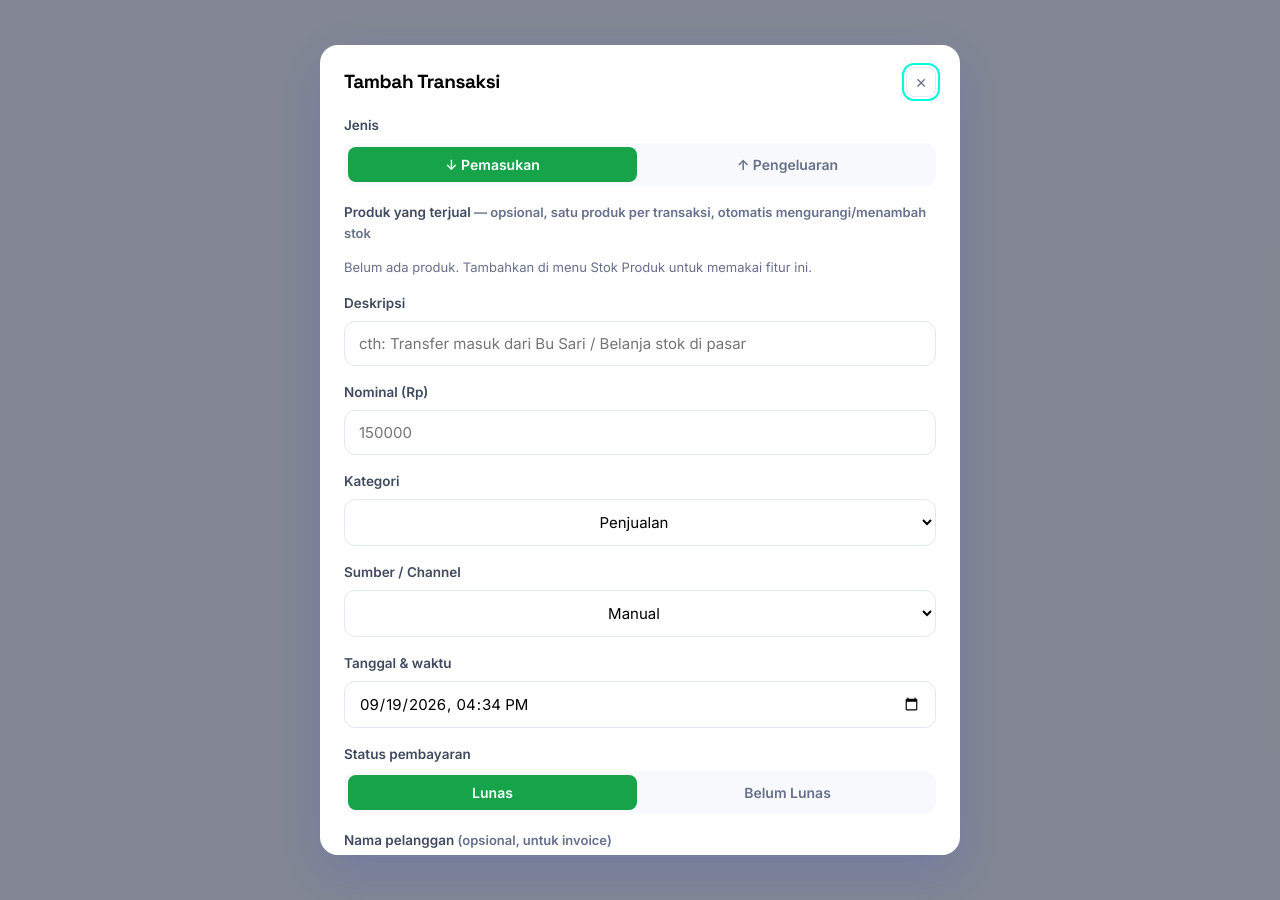
Test: <TransactionModal> validasi › menolak simpan tanpa deskripsi
In the number field labelled "Nominal (Rp)": (640, 432) [344,410,936,455], type "50000"
(page scrolled)
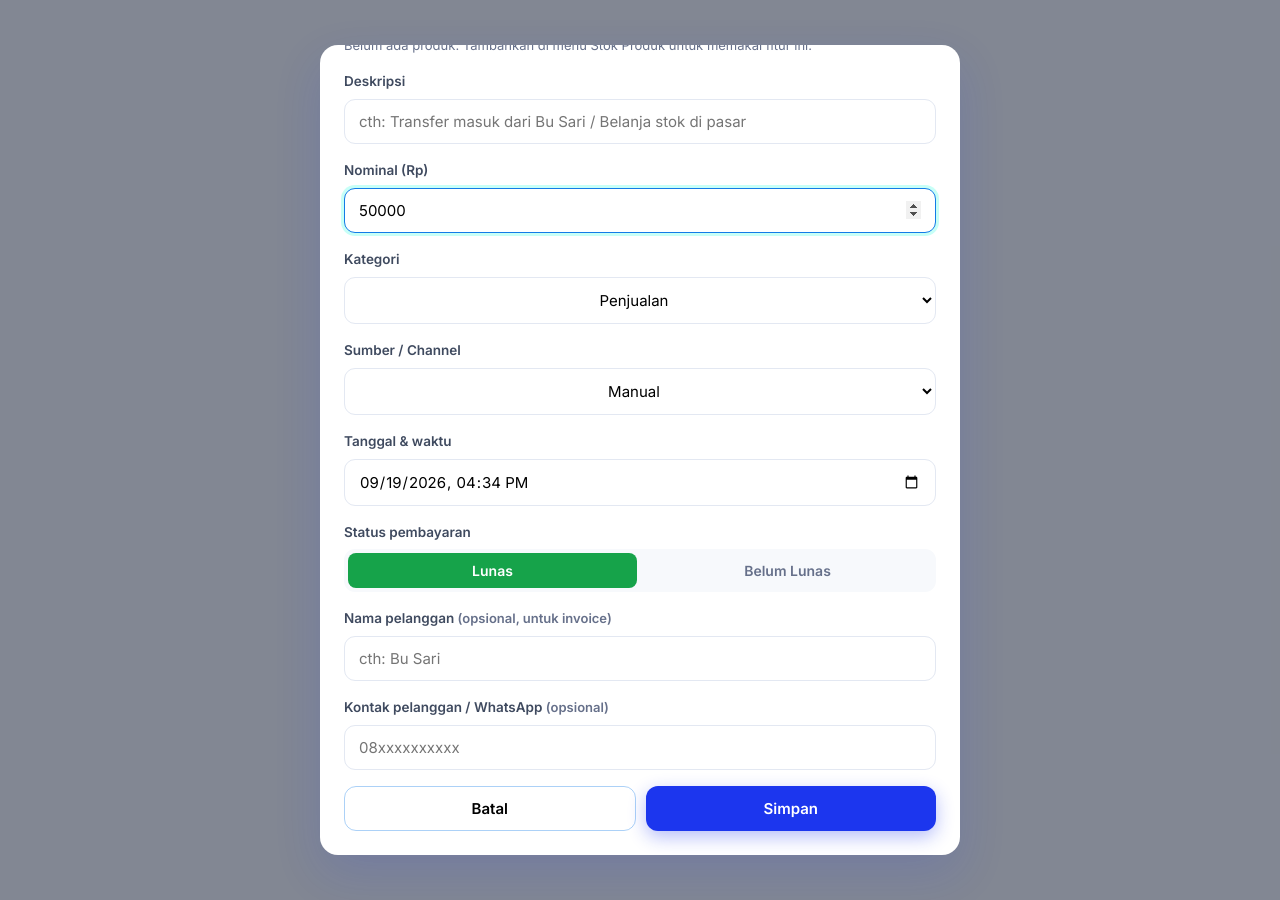
Click the button "Simpan": (791, 809) [646,786,936,831]
(page scrolled)
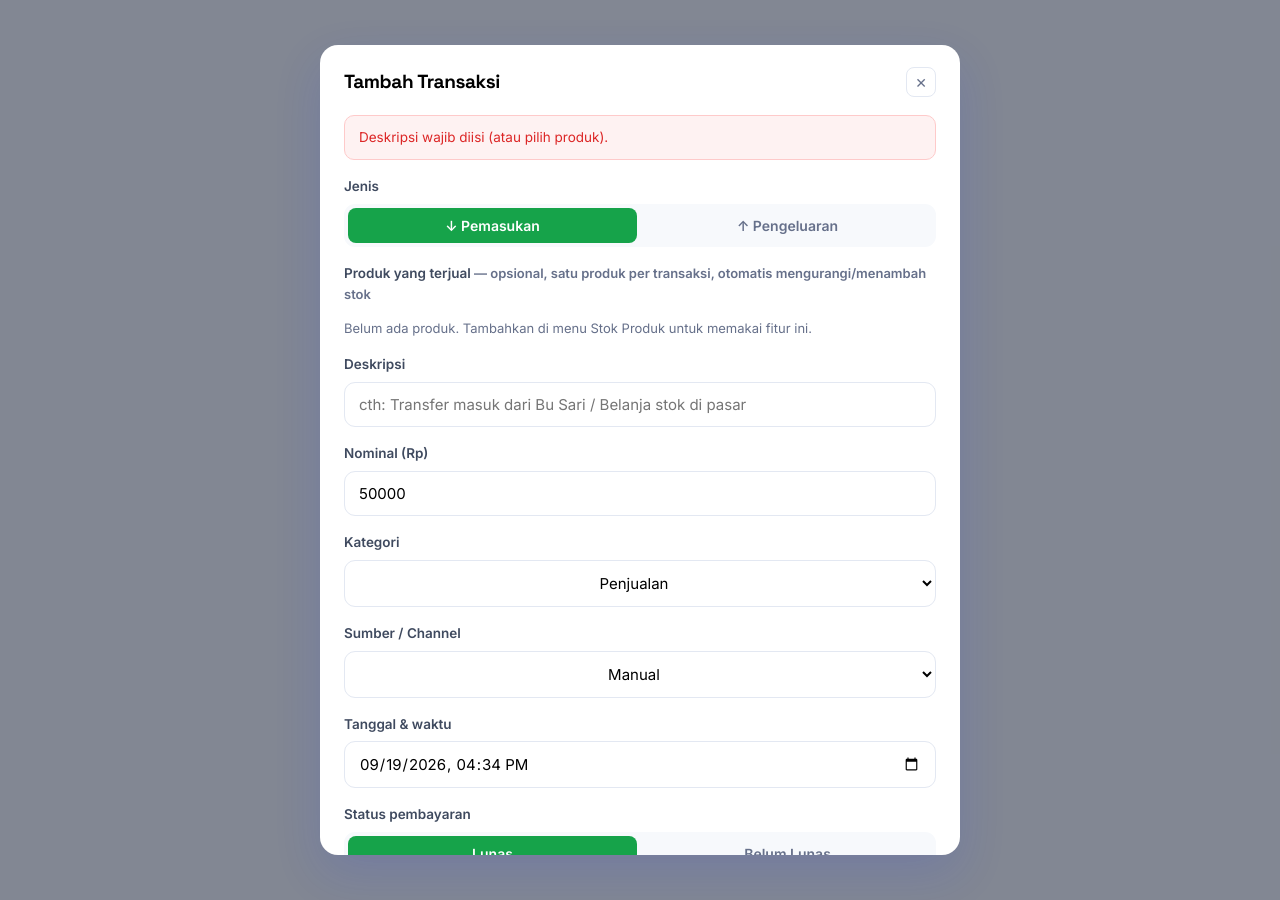
Result: the text "Deskripsi wajib diisi (atau pilih produk)." is shown at [344,115,936,160]
